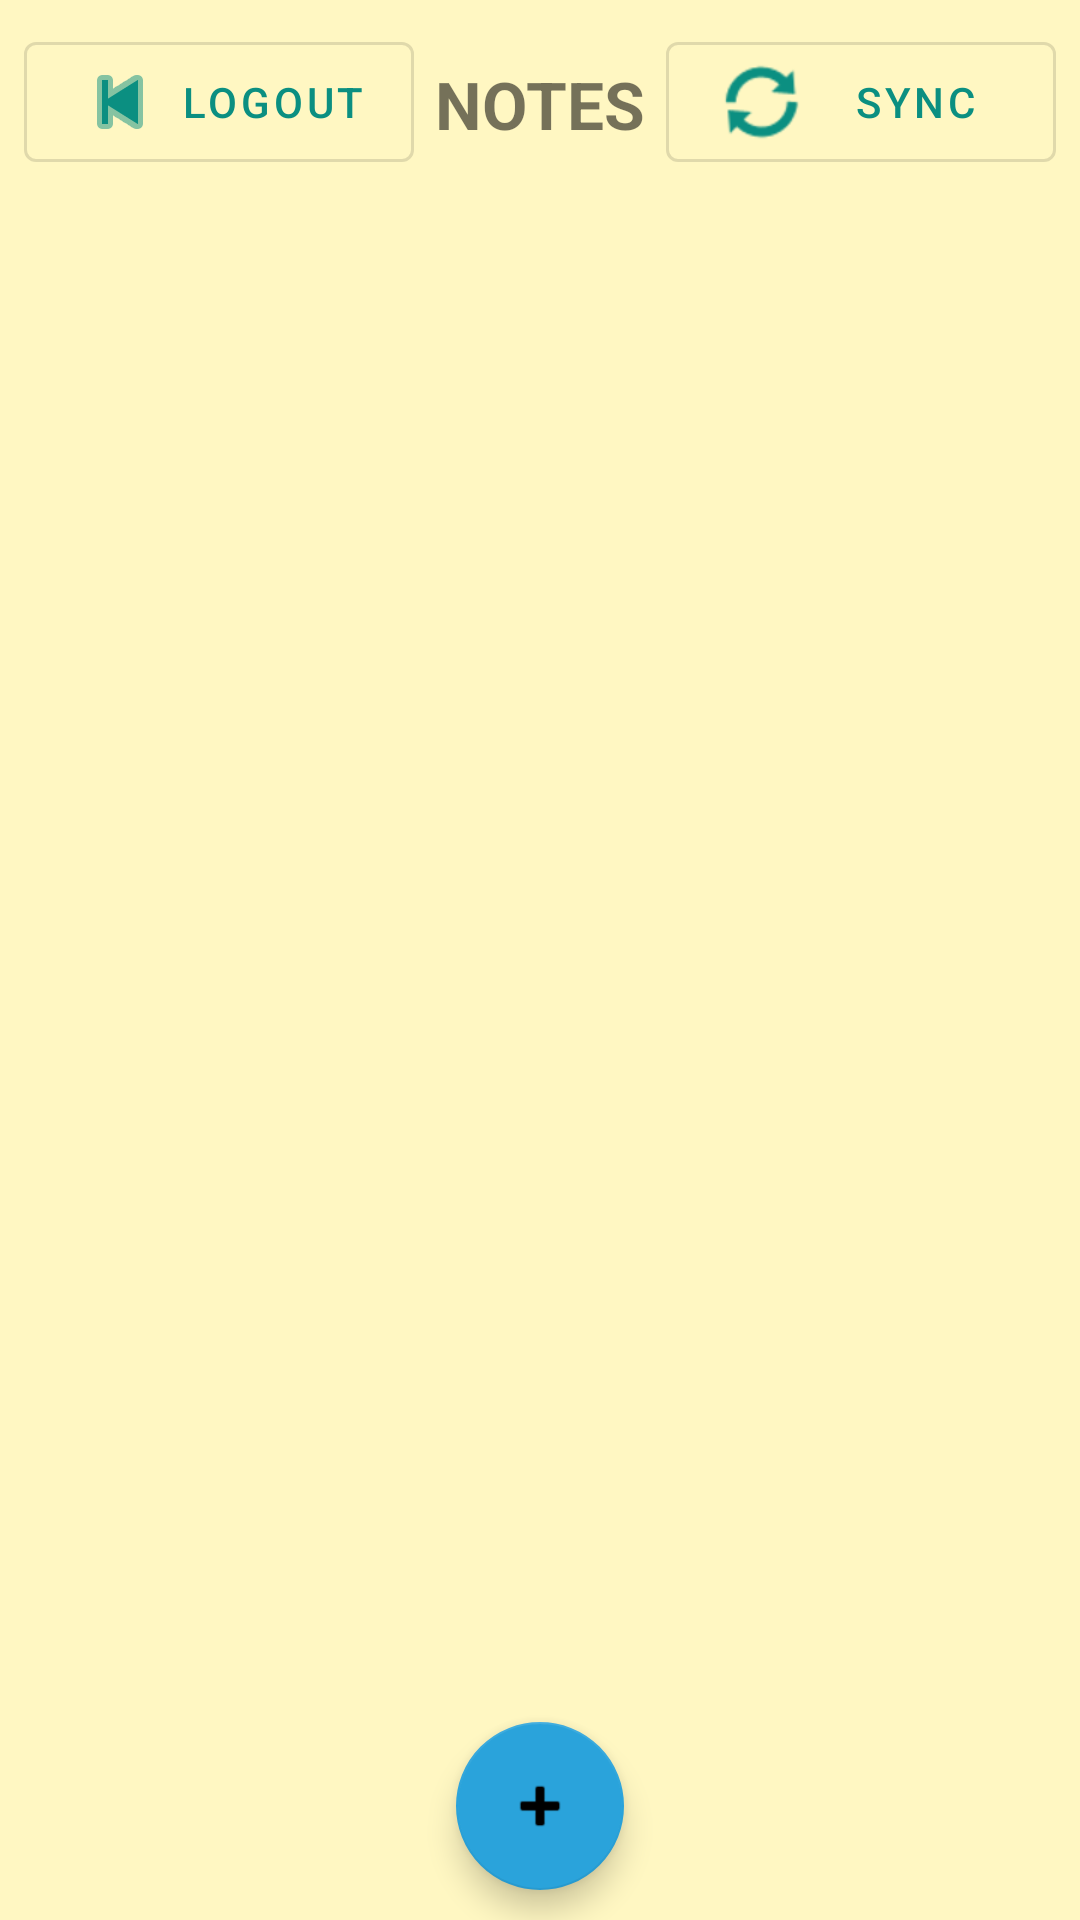

Named icons in this screenshot (1080px×1920px) and their centers, (x=x, y=y):
add: (x=540, y=1806)
